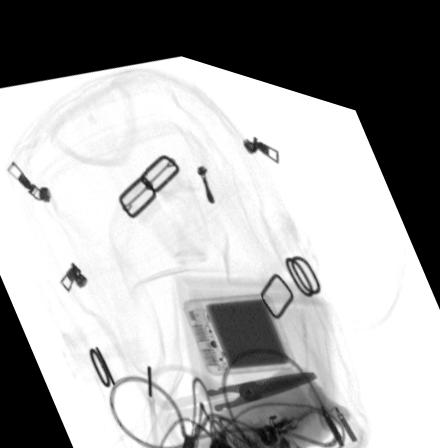Powerbank: (180, 276, 295, 360)
Scissors: (148, 345, 318, 437)
